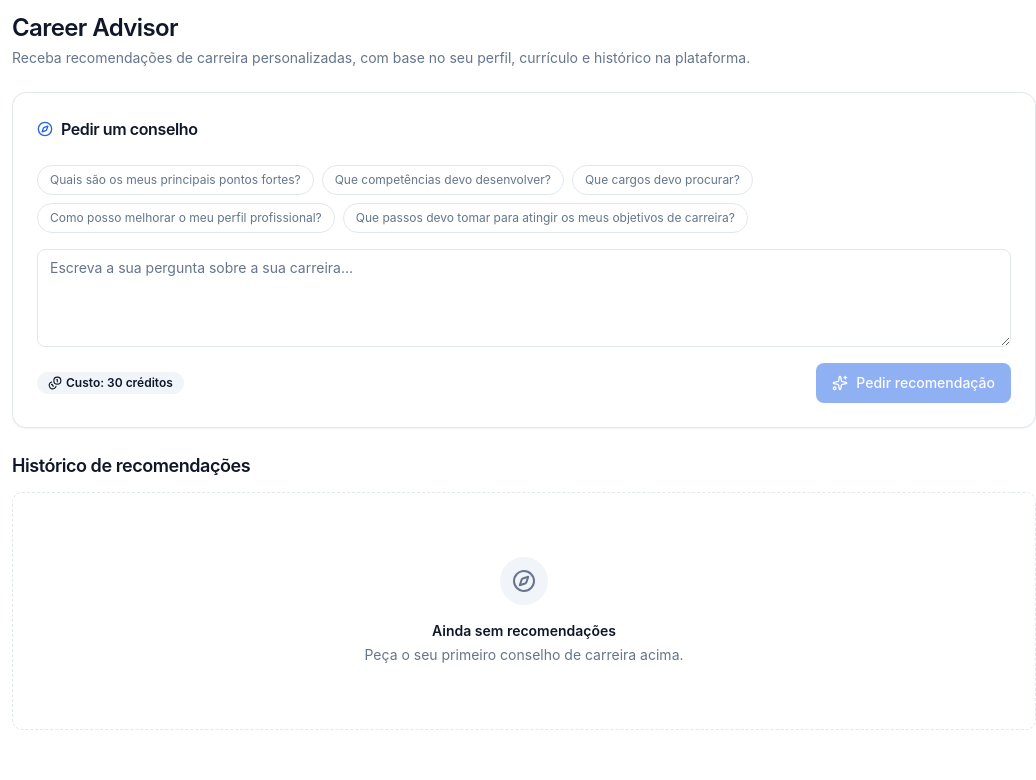
Test: CareerAdvisorPage › fills the question field when a suggested question is clicked
Check: the text "Custo: 30 créditos" is shown, box [37,372,184,394]
Click the button "Quais são os meus principais pontos fortes?".
click(175, 180)  # box [37,165,314,195]
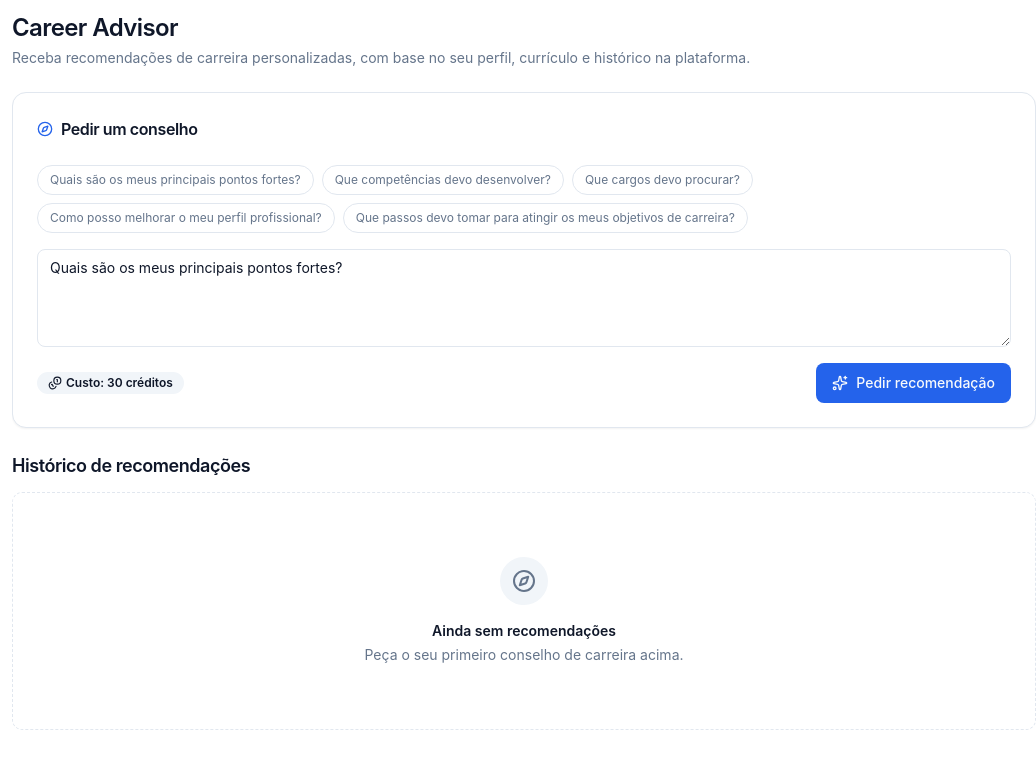
Check: the text box named "Pergunta para o Career Advisor" holds "Quais são os meus principais pontos fortes?", box [37,249,1011,347]
